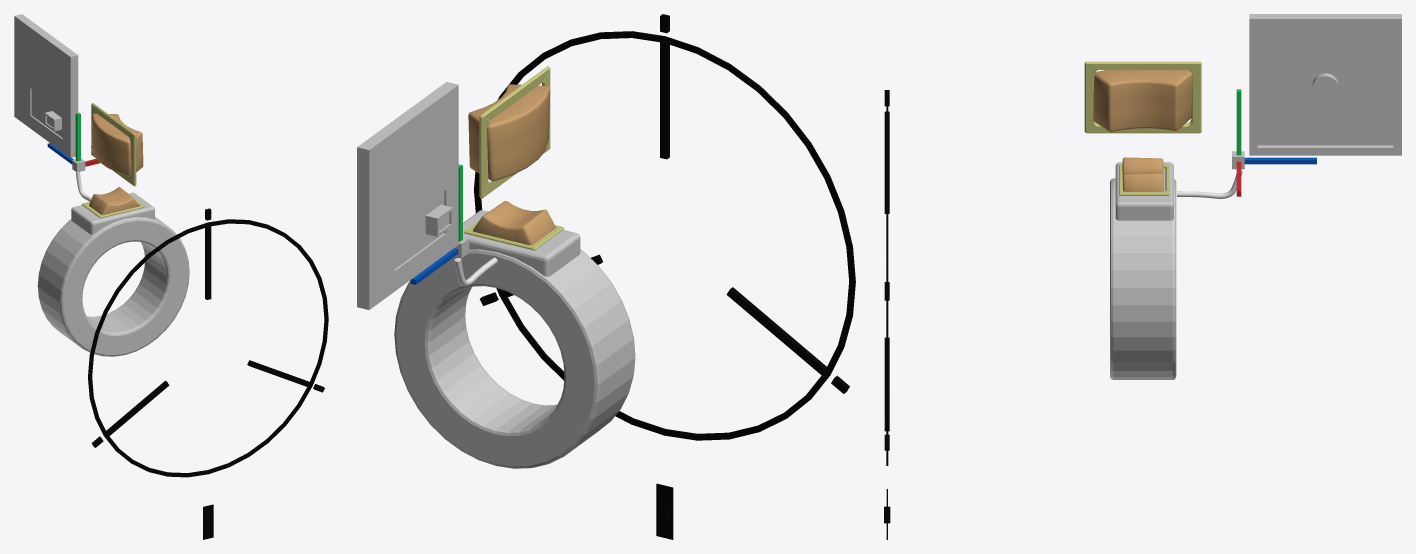
File: obczka.fbx
3 renders of one model, left to right at view 1: azimuth 30°, elevation 25°; view 2: azimuth 150°, elevation 25°; view 3: azimuth 270°, elevation 25°, orthographic. The views are drawn at different scales.
Parts seen in each view (by area): view 1: Tube, pad, radial_center, brn_2, Cube_6, brn, Connect_2, Cube_4, Cube_2, Cube_3; view 2: Tube, pad, radial_center, brn_2, Cube_6, brn, Connect_2, Cube_4, Cube_2, fourdir, Connect; view 3: pad, Tube, brn_2, Connect_2, Cube_6, brn, radial_center.
Part boxes in pixels (x1,y1,x2,y2): Tube: [37, 217, 189, 356]; pad: [14, 14, 78, 157]; radial_center: [88, 219, 328, 477]; brn_2: [91, 113, 143, 176]; Cube_6: [71, 192, 154, 234]; brn: [89, 187, 138, 214]; Connect_2: [91, 103, 136, 186]; Cube_4: [106, 380, 169, 436]; Cube_2: [205, 225, 211, 299]; Cube_3: [247, 360, 311, 387]; Tube: [394, 249, 635, 468]; pad: [357, 82, 458, 309]; radial_center: [474, 31, 855, 440]; brn_2: [468, 84, 550, 181]; Cube_6: [463, 210, 580, 276]; brn: [473, 201, 555, 245]; Connect_2: [479, 66, 550, 198]; Cube_4: [726, 287, 826, 376]; Cube_2: [660, 41, 669, 159]; fourdir: [656, 483, 673, 539]; Connect: [464, 220, 563, 250]; pad: [1249, 14, 1401, 155]; Tube: [1110, 178, 1176, 379]; brn_2: [1093, 70, 1192, 131]; Connect_2: [1084, 61, 1201, 133]; Cube_6: [1115, 162, 1173, 220]; brn: [1122, 157, 1163, 191]; radial_center: [886, 106, 888, 465].
Bounding box in the file's own units: 53.36 × 81.65 × 73.66.
